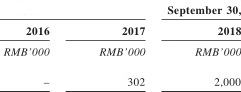column: (167, 1, 241, 92), (99, 1, 146, 92), (4, 1, 50, 92)
row: (1, 6, 241, 17), (1, 27, 241, 36), (1, 47, 241, 56), (1, 78, 241, 87)
